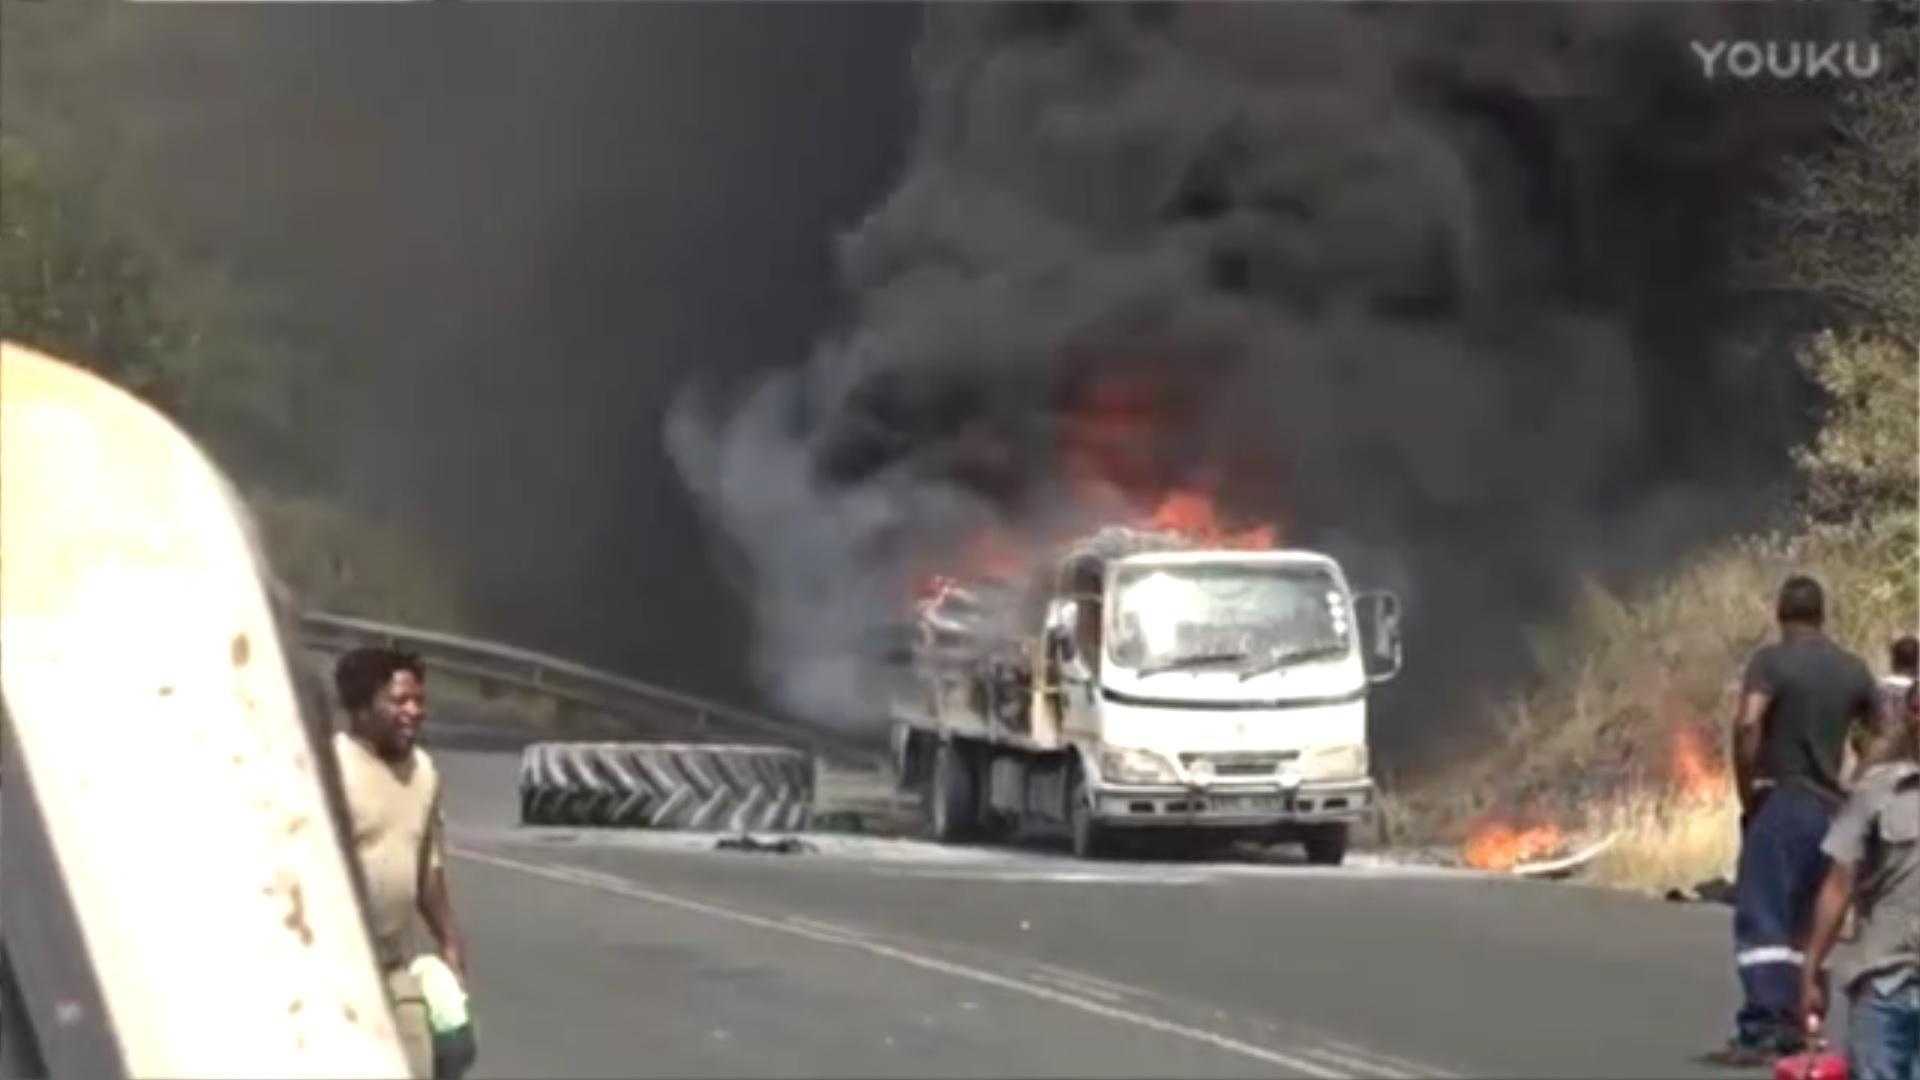fire: (1149, 492, 1273, 553), (1466, 814, 1563, 873), (1665, 725, 1731, 800)
